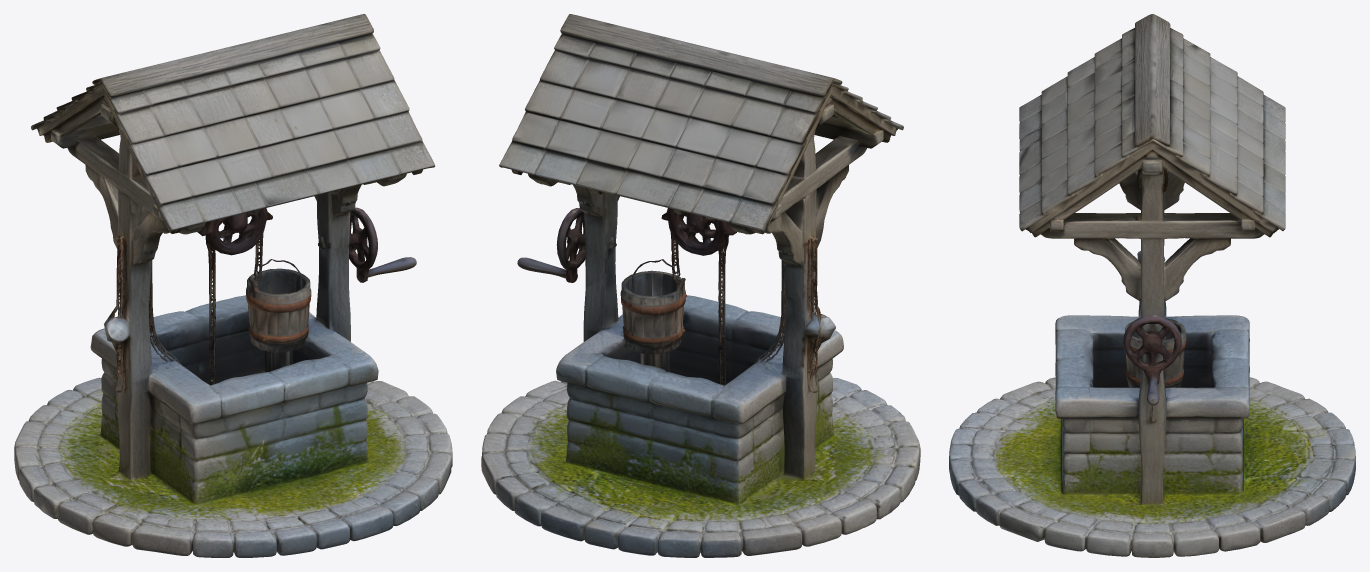
The model's file is pixellabs-glb-3823.high.glb.
The picture shows the model from 3 angles, left to right: view 1: azimuth 30°, elevation 25°; view 2: azimuth 150°, elevation 25°; view 3: azimuth 270°, elevation 25°; orthographic projection. The views are drawn at different scales.
Parts seen in each view (by area): view 1: node_0; view 2: node_0; view 3: node_0.
Boxes of the visible parts, x1,y1,x2,y2 form: node_0: [14, 14, 452, 557]; node_0: [481, 14, 920, 557]; node_0: [949, 14, 1355, 557].
Size of the model in its own units: 0.8274 by 0.8745 by 0.8127.
1 material, 1 textured.
